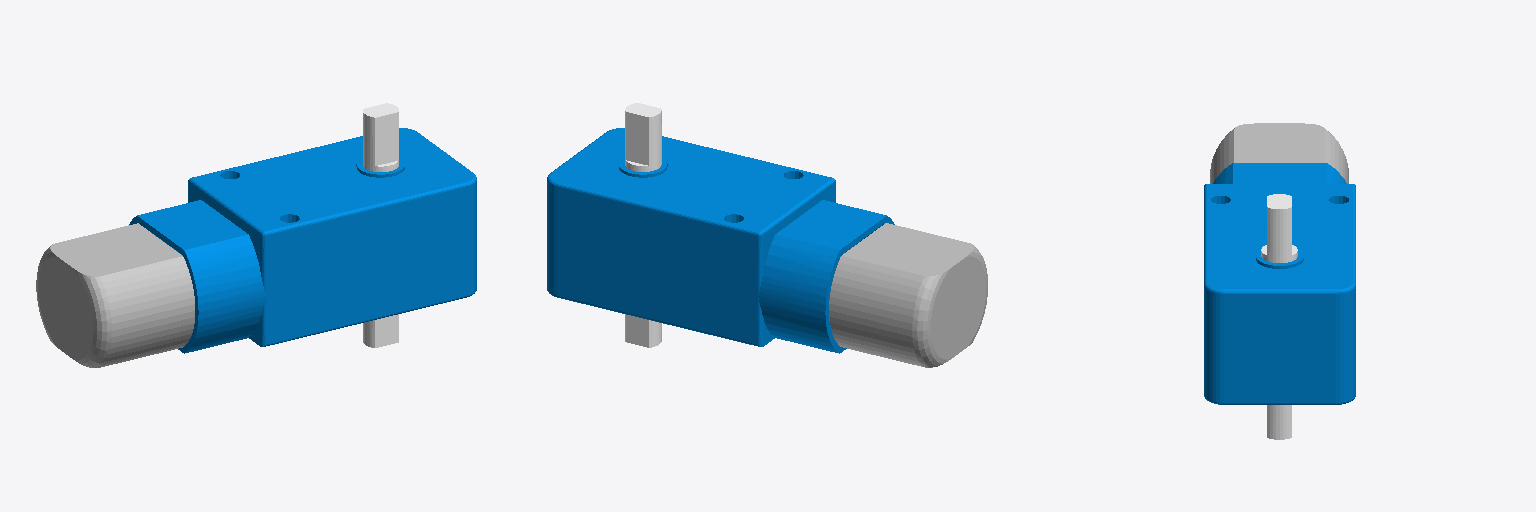
The model's file is motor.obj.
3 renders of one model, left to right at view 1: azimuth 30°, elevation 25°; view 2: azimuth 150°, elevation 25°; view 3: azimuth 270°, elevation 25°, orthographic.
Parts seen in each view (by area): view 1: Gearbox_Motor_Kuning, Motor_Motor_Kuning.001, Axis_Motor_Kuning.002; view 2: Gearbox_Motor_Kuning, Motor_Motor_Kuning.001, Axis_Motor_Kuning.002; view 3: Gearbox_Motor_Kuning, Motor_Motor_Kuning.001, Axis_Motor_Kuning.002.
Part boxes in pixels (x1,y1,x2,y2): Gearbox_Motor_Kuning: (129, 128, 476, 353); Motor_Motor_Kuning.001: (36, 223, 194, 367); Axis_Motor_Kuning.002: (363, 103, 398, 347); Gearbox_Motor_Kuning: (547, 128, 894, 353); Motor_Motor_Kuning.001: (829, 223, 987, 367); Axis_Motor_Kuning.002: (625, 103, 661, 347); Gearbox_Motor_Kuning: (1204, 163, 1355, 404); Motor_Motor_Kuning.001: (1210, 123, 1348, 183); Axis_Motor_Kuning.002: (1261, 194, 1297, 439).
Bounding box in the file's own units: 0.0585 × 0.0338 × 0.0203.